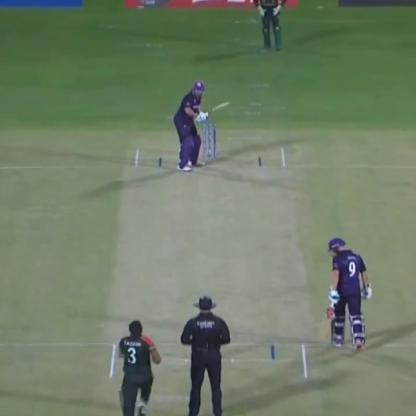bat: (313, 292, 335, 352), (197, 96, 241, 119)
pitch: (101, 142, 314, 392)
